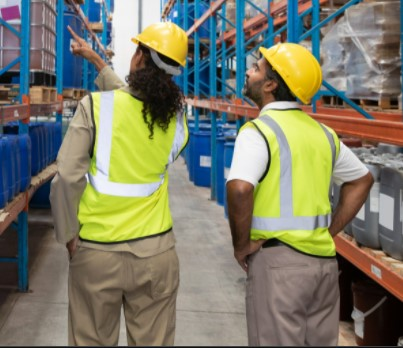worker: (80, 22, 186, 242), (245, 43, 339, 258)
